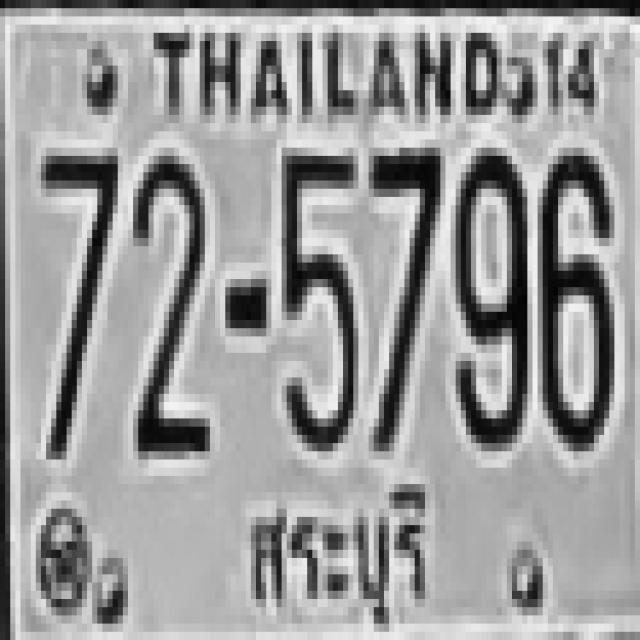2: (128, 148, 205, 451)
5: (279, 148, 351, 443)
6: (538, 148, 609, 443)
7: (38, 148, 116, 451), (369, 140, 435, 443), (38, 148, 116, 353), (369, 144, 435, 373)
9: (450, 140, 528, 443)
SaraBuri: (241, 478, 436, 639)
